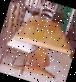Mesa: (7, 12, 75, 81)
Silla: (0, 1, 48, 77), (4, 2, 49, 63)
